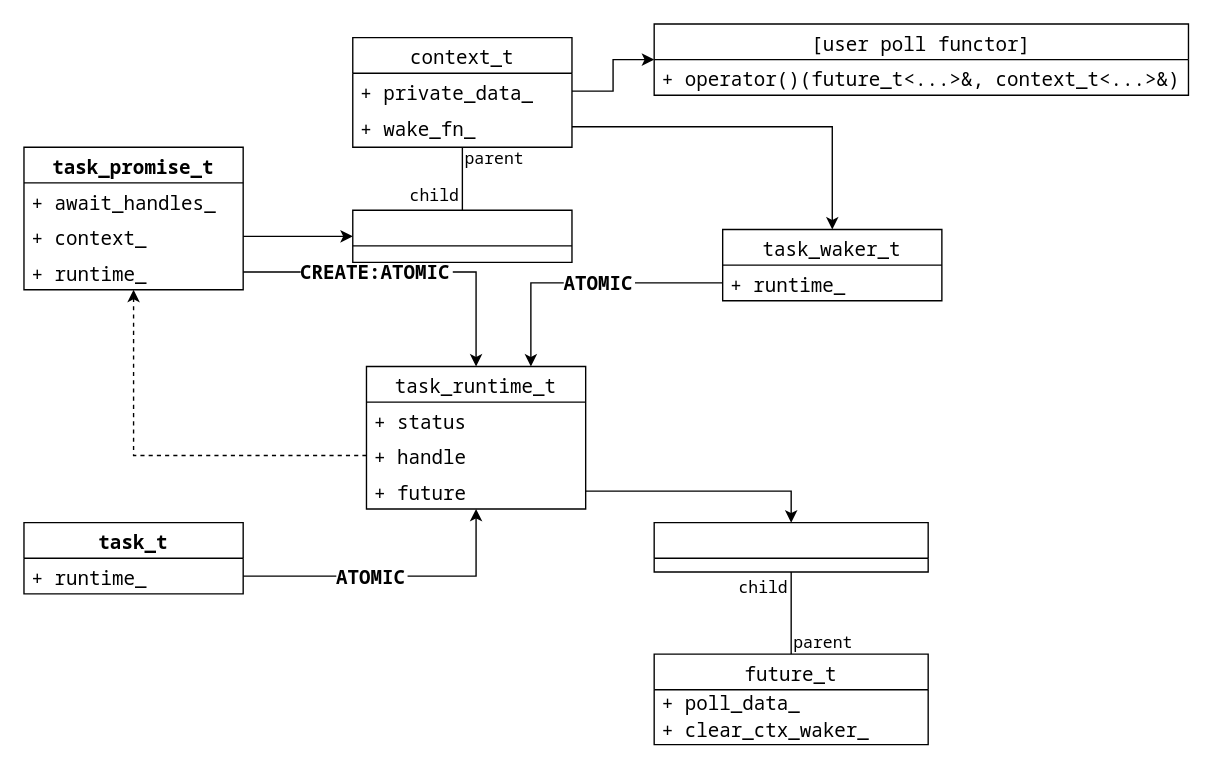
Image size: 1212x769. Some labels were removed from this diagram. The shapes that lost their labels are listed below. From the top down, each one's centre as x and y in pixels, then its label:
At pixel 461 235: "task_context_t".
At pixel 790 546: "task_future_t".
